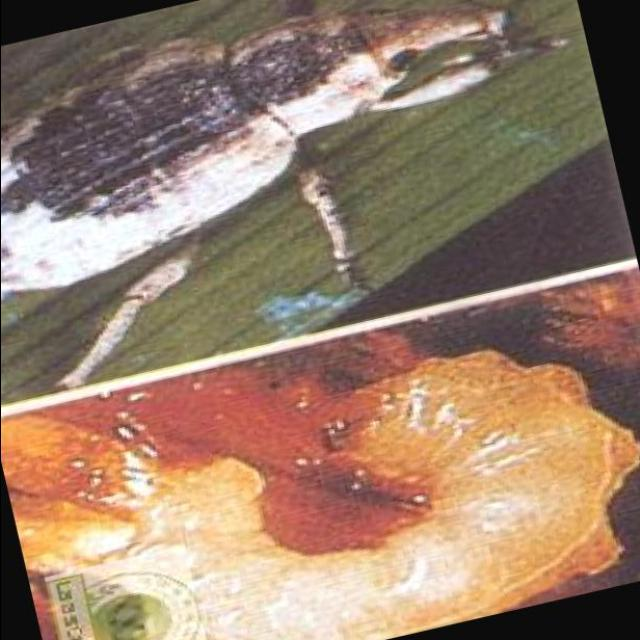ricebug: (0, 5, 506, 293)
